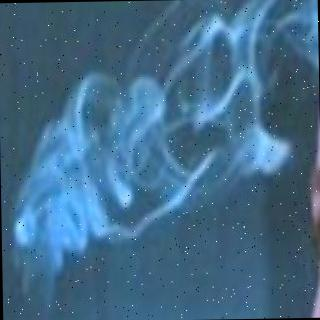smoke: (19, 0, 303, 275)
